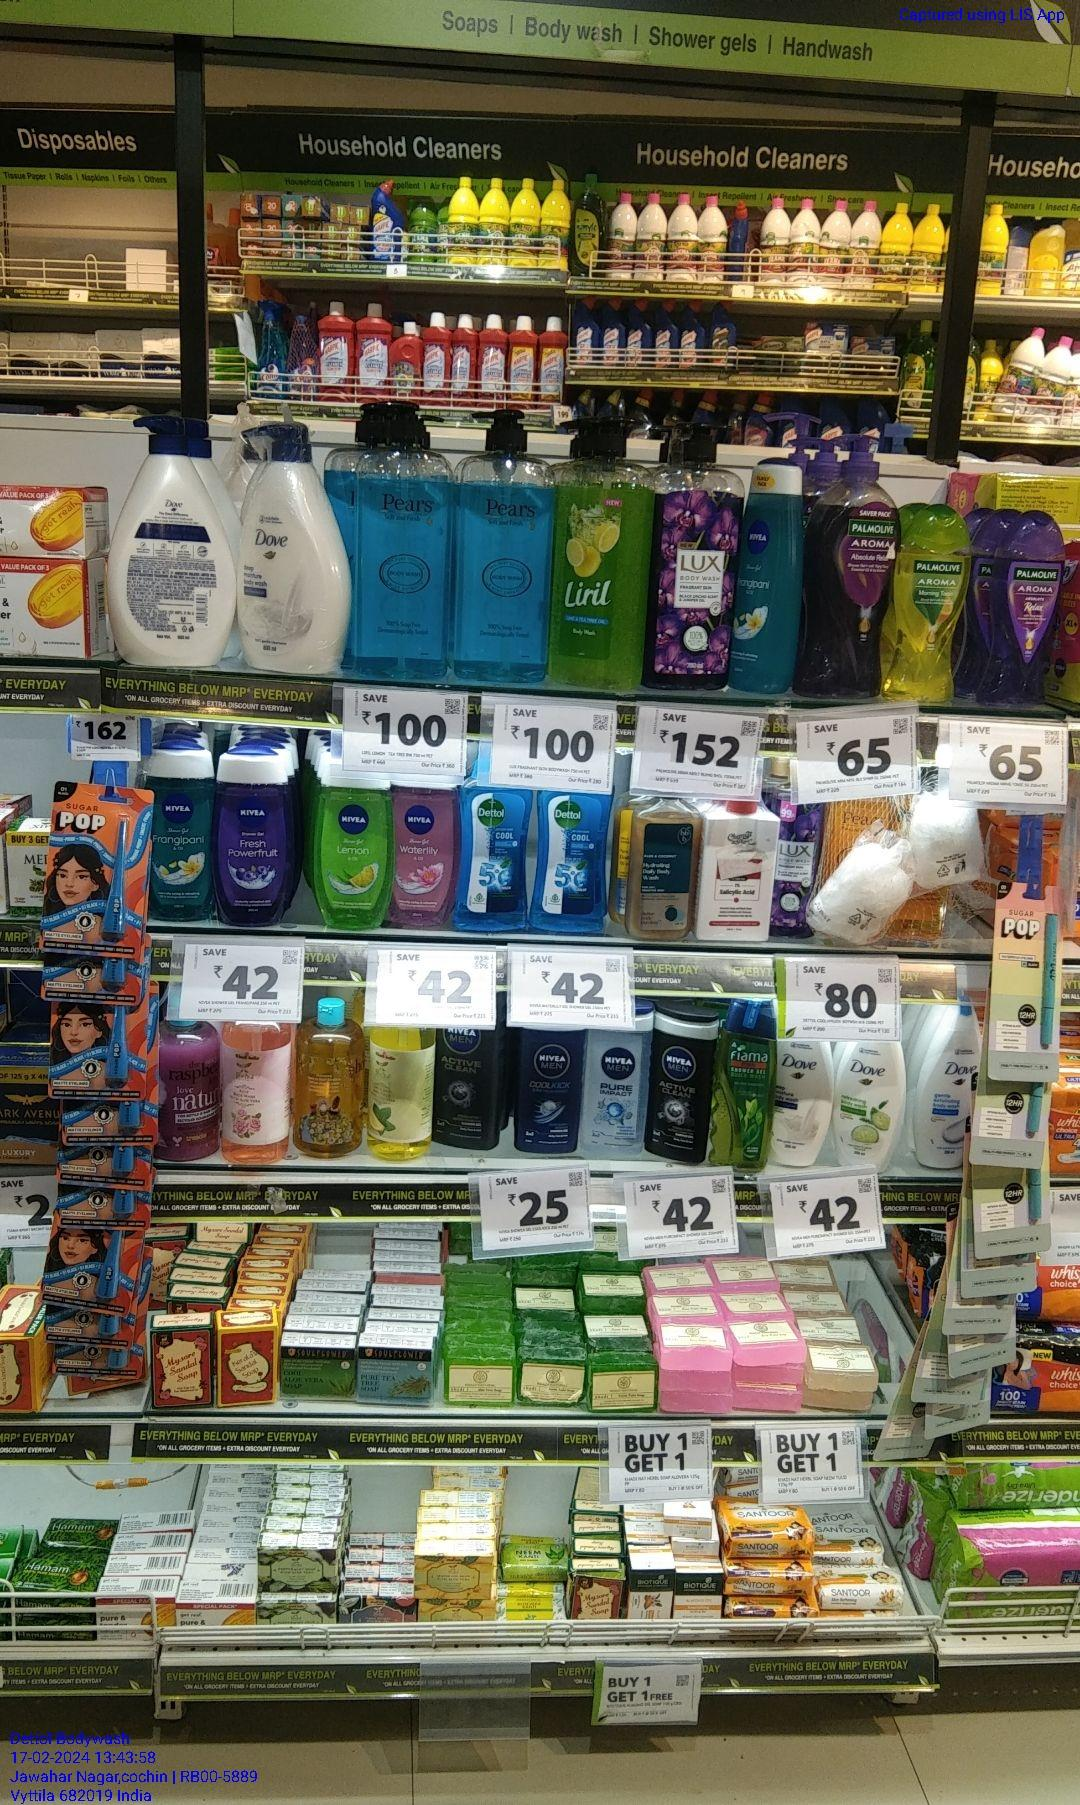Dettol_Bodywash_Cool: (460, 770, 534, 931), (536, 780, 613, 924)
Dove_Deep_Moisture_Body_Wash_250ML: (777, 1034, 833, 1167)
Dove_Refreshing_Body_Wash_250ML: (841, 1040, 905, 1175)
Nivea_Shower_Gel_Frangipani_and_Oil_250ML: (147, 743, 216, 923)
Nivea_Shower_Gel_Fresh_Powerfruit_250ML: (219, 747, 298, 931)
Nivea_Shower_Gel_Lemon_and_Oil_250ML: (319, 766, 393, 936)
Nivea_Shower_Gel_Waterlily_and_Oil_250ML: (400, 775, 455, 929)
Palmolive_Aroma_Morning_Tonic_Shower_Gel_250ML: (894, 504, 957, 705)
Palmolive_Aroma_Relax_250ML: (993, 508, 1058, 699)
